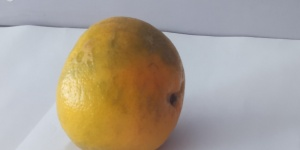BAD: (57, 15, 192, 150)
